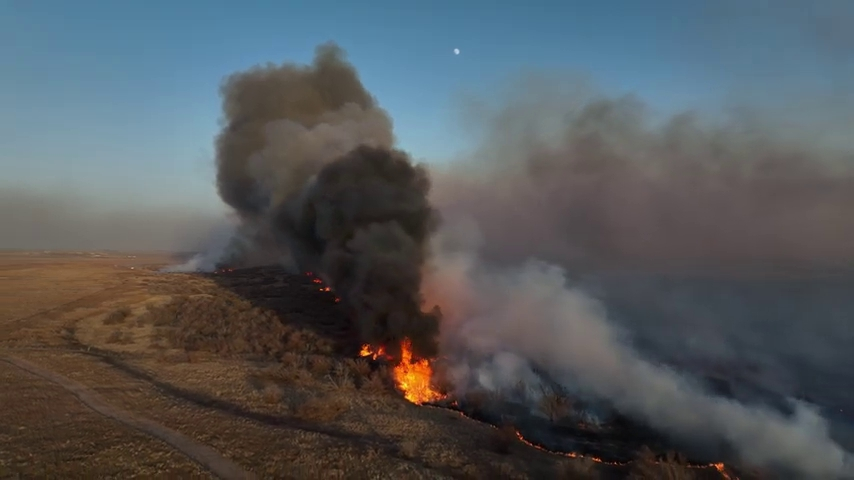forest_fire: (392, 339, 443, 404), (362, 345, 387, 359)
